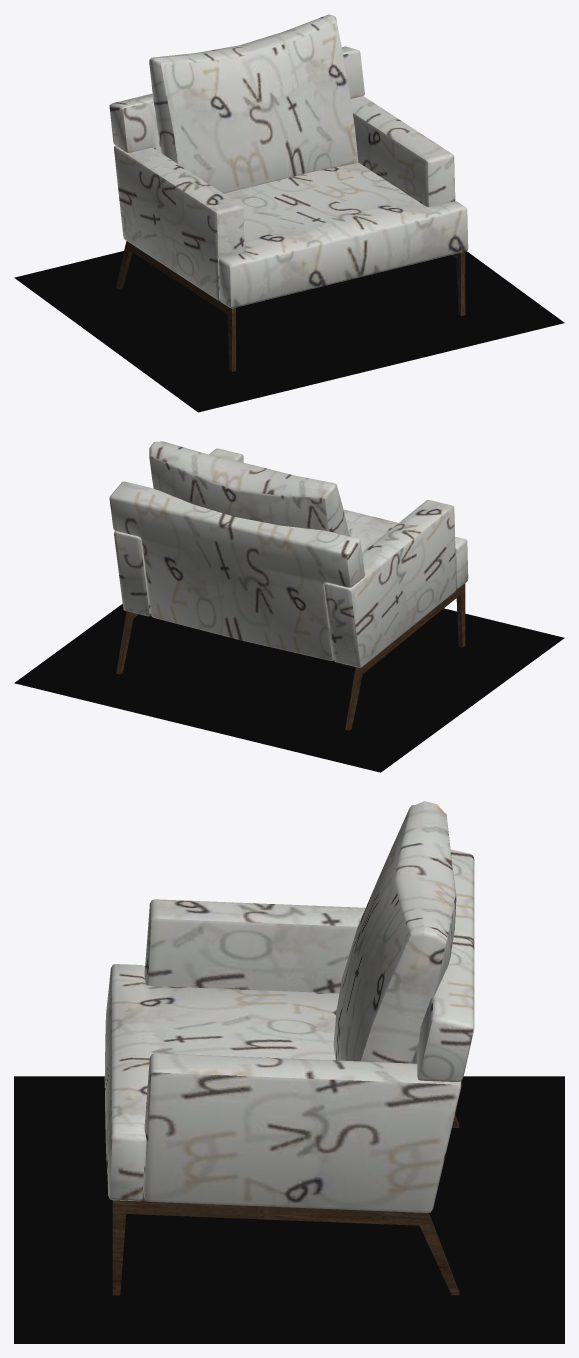
3 renders of one model, top to bottom at view 1: azimuth 30°, elevation 25°; view 2: azimuth 150°, elevation 25°; view 3: azimuth 270°, elevation 25°, orthographic. The views are drawn at different scales.
Visible parts, largest first — view 1: 6_Estofado, 6_S, 6_Pes; view 2: 6_Estofado, 6_S, 6_Pes; view 3: 6_Estofado, 6_S, 6_Pes.
Part boxes in pixels (x1=…): 6_Estofado: x1=109, y1=14, x2=468, y2=308; 6_S: x1=14, y1=251, x2=564, y2=412; 6_Pes: x1=116, y1=241, x2=465, y2=371; 6_Estofado: x1=109, y1=441, x2=468, y2=667; 6_S: x1=14, y1=604, x2=564, y2=772; 6_Pes: x1=116, y1=583, x2=465, y2=730; 6_Estofado: x1=104, y1=801, x2=474, y2=1212; 6_S: x1=14, y1=1076, x2=564, y2=1343; 6_Pes: x1=112, y1=1114, x2=459, y2=1295.
Bounding box in the file's own units: 1.3 × 0.7828 × 1.13.
Materials: 3 (3 with a texture image).
